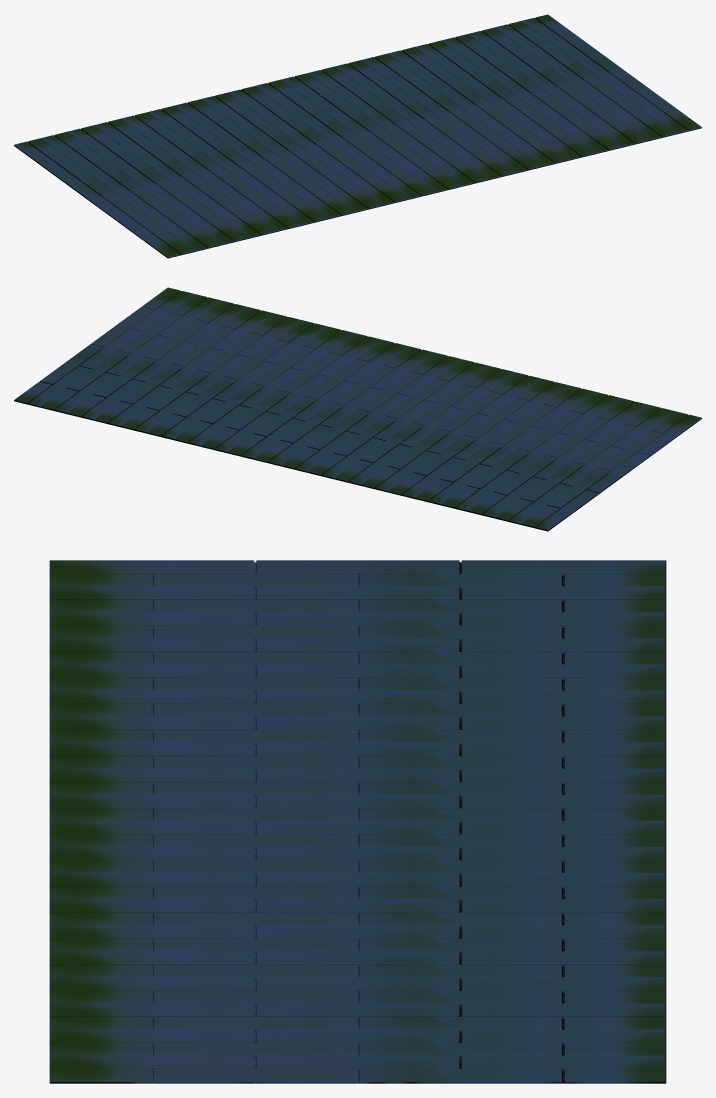
The model's file is Piastrelle.obj.
3 views of the same model, one above another, from view 1: azimuth 30°, elevation 25°; view 2: azimuth 150°, elevation 25°; view 3: azimuth 270°, elevation 25° (orthographic). The views are drawn at different scales.
Visible parts, largest first — view 1: Piastrelle; view 2: Piastrelle; view 3: Piastrelle.
Part boxes in pixels (x1,y1,x2,y2): Piastrelle: [14, 14, 701, 258]; Piastrelle: [14, 287, 701, 531]; Piastrelle: [49, 560, 666, 1083].
Bounding box in the file's own units: 7.92 × 0.0176 × 3.96.
Materials: 1 (1 with a texture image).
